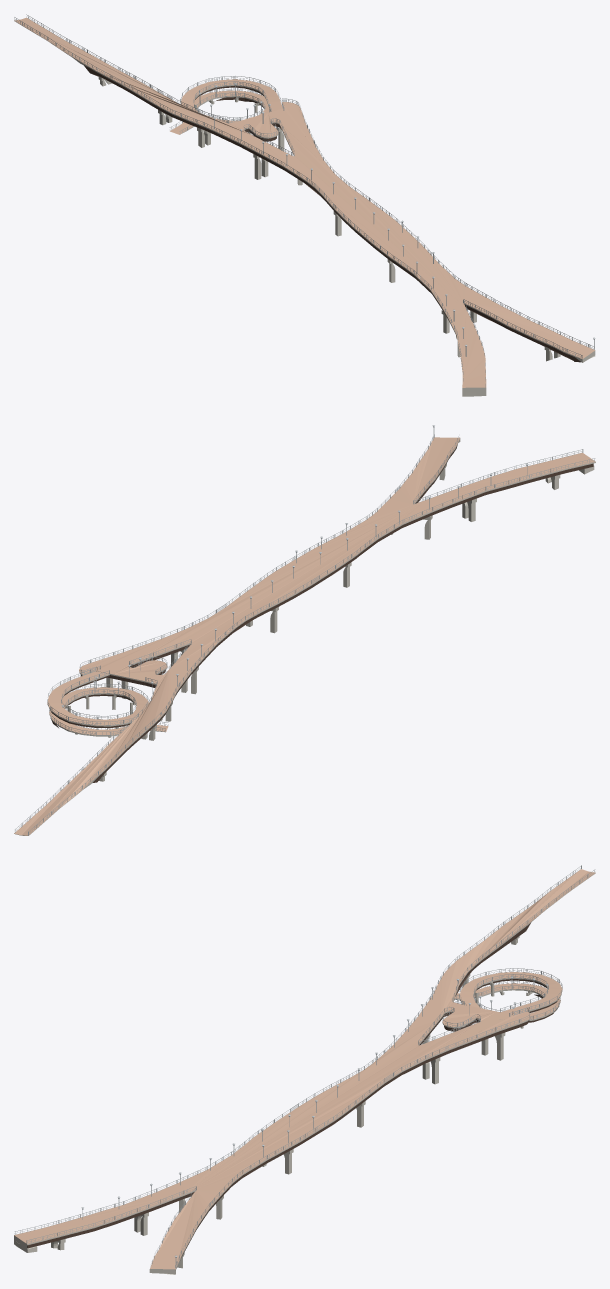
File: atx-pfluger-pedestrian-bridge.detail.glb
3 renders of one model, top to bottom at view 1: azimuth 30°, elevation 25°; view 2: azimuth 150°, elevation 25°; view 3: azimuth 330°, elevation 25°, orthographic. The views are drawn at different scales.
Parts seen in each view (by area): view 1: James D. Pfluger Pedestrian Bridge; view 2: James D. Pfluger Pedestrian Bridge; view 3: James D. Pfluger Pedestrian Bridge.
Boxes of the visible parts, x1,y1,x2,y2 form: James D. Pfluger Pedestrian Bridge: (14,14,595,396); James D. Pfluger Pedestrian Bridge: (14,425,595,835); James D. Pfluger Pedestrian Bridge: (14,865,595,1274).
Size of the model in its own units: 53.86 by 13.71 by 288.
